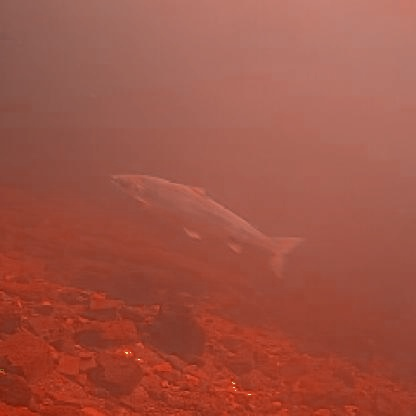salmon: (104, 166, 302, 278)
